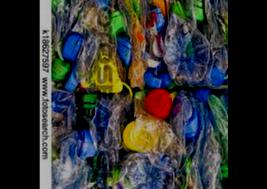Plastic: (98, 12, 111, 40)
